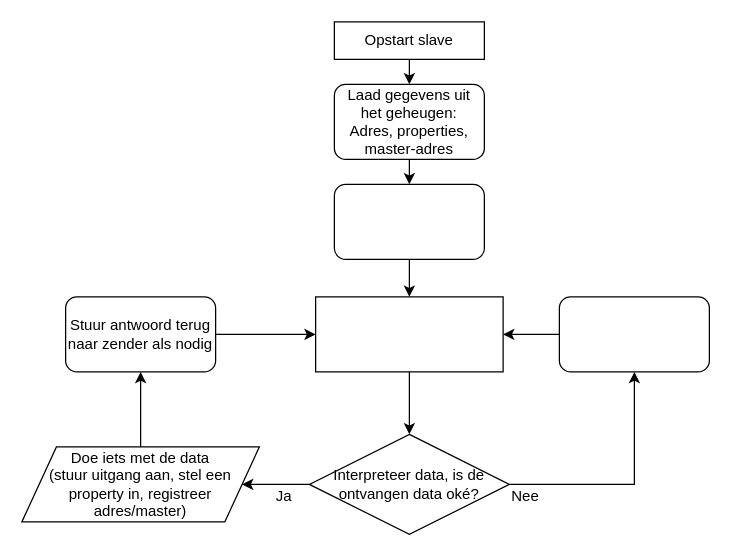
This 731x556 diagram has some shape labels left out. The box of each missing label's shape, as (x1, y1, x2, y2) in pixels:
Start seriële communicaties: (333, 183, 484, 259)
Vraag aan zender om pakket opnieuw te sturen: (558, 296, 709, 372)
Wacht op datapakket dat voor mij bedoeld is: (314, 296, 503, 372)
